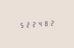eight: (42, 19, 47, 27)
five: (17, 21, 22, 28)
four: (36, 20, 41, 27)
two: (23, 20, 28, 28), (30, 20, 35, 28), (48, 19, 53, 26)
